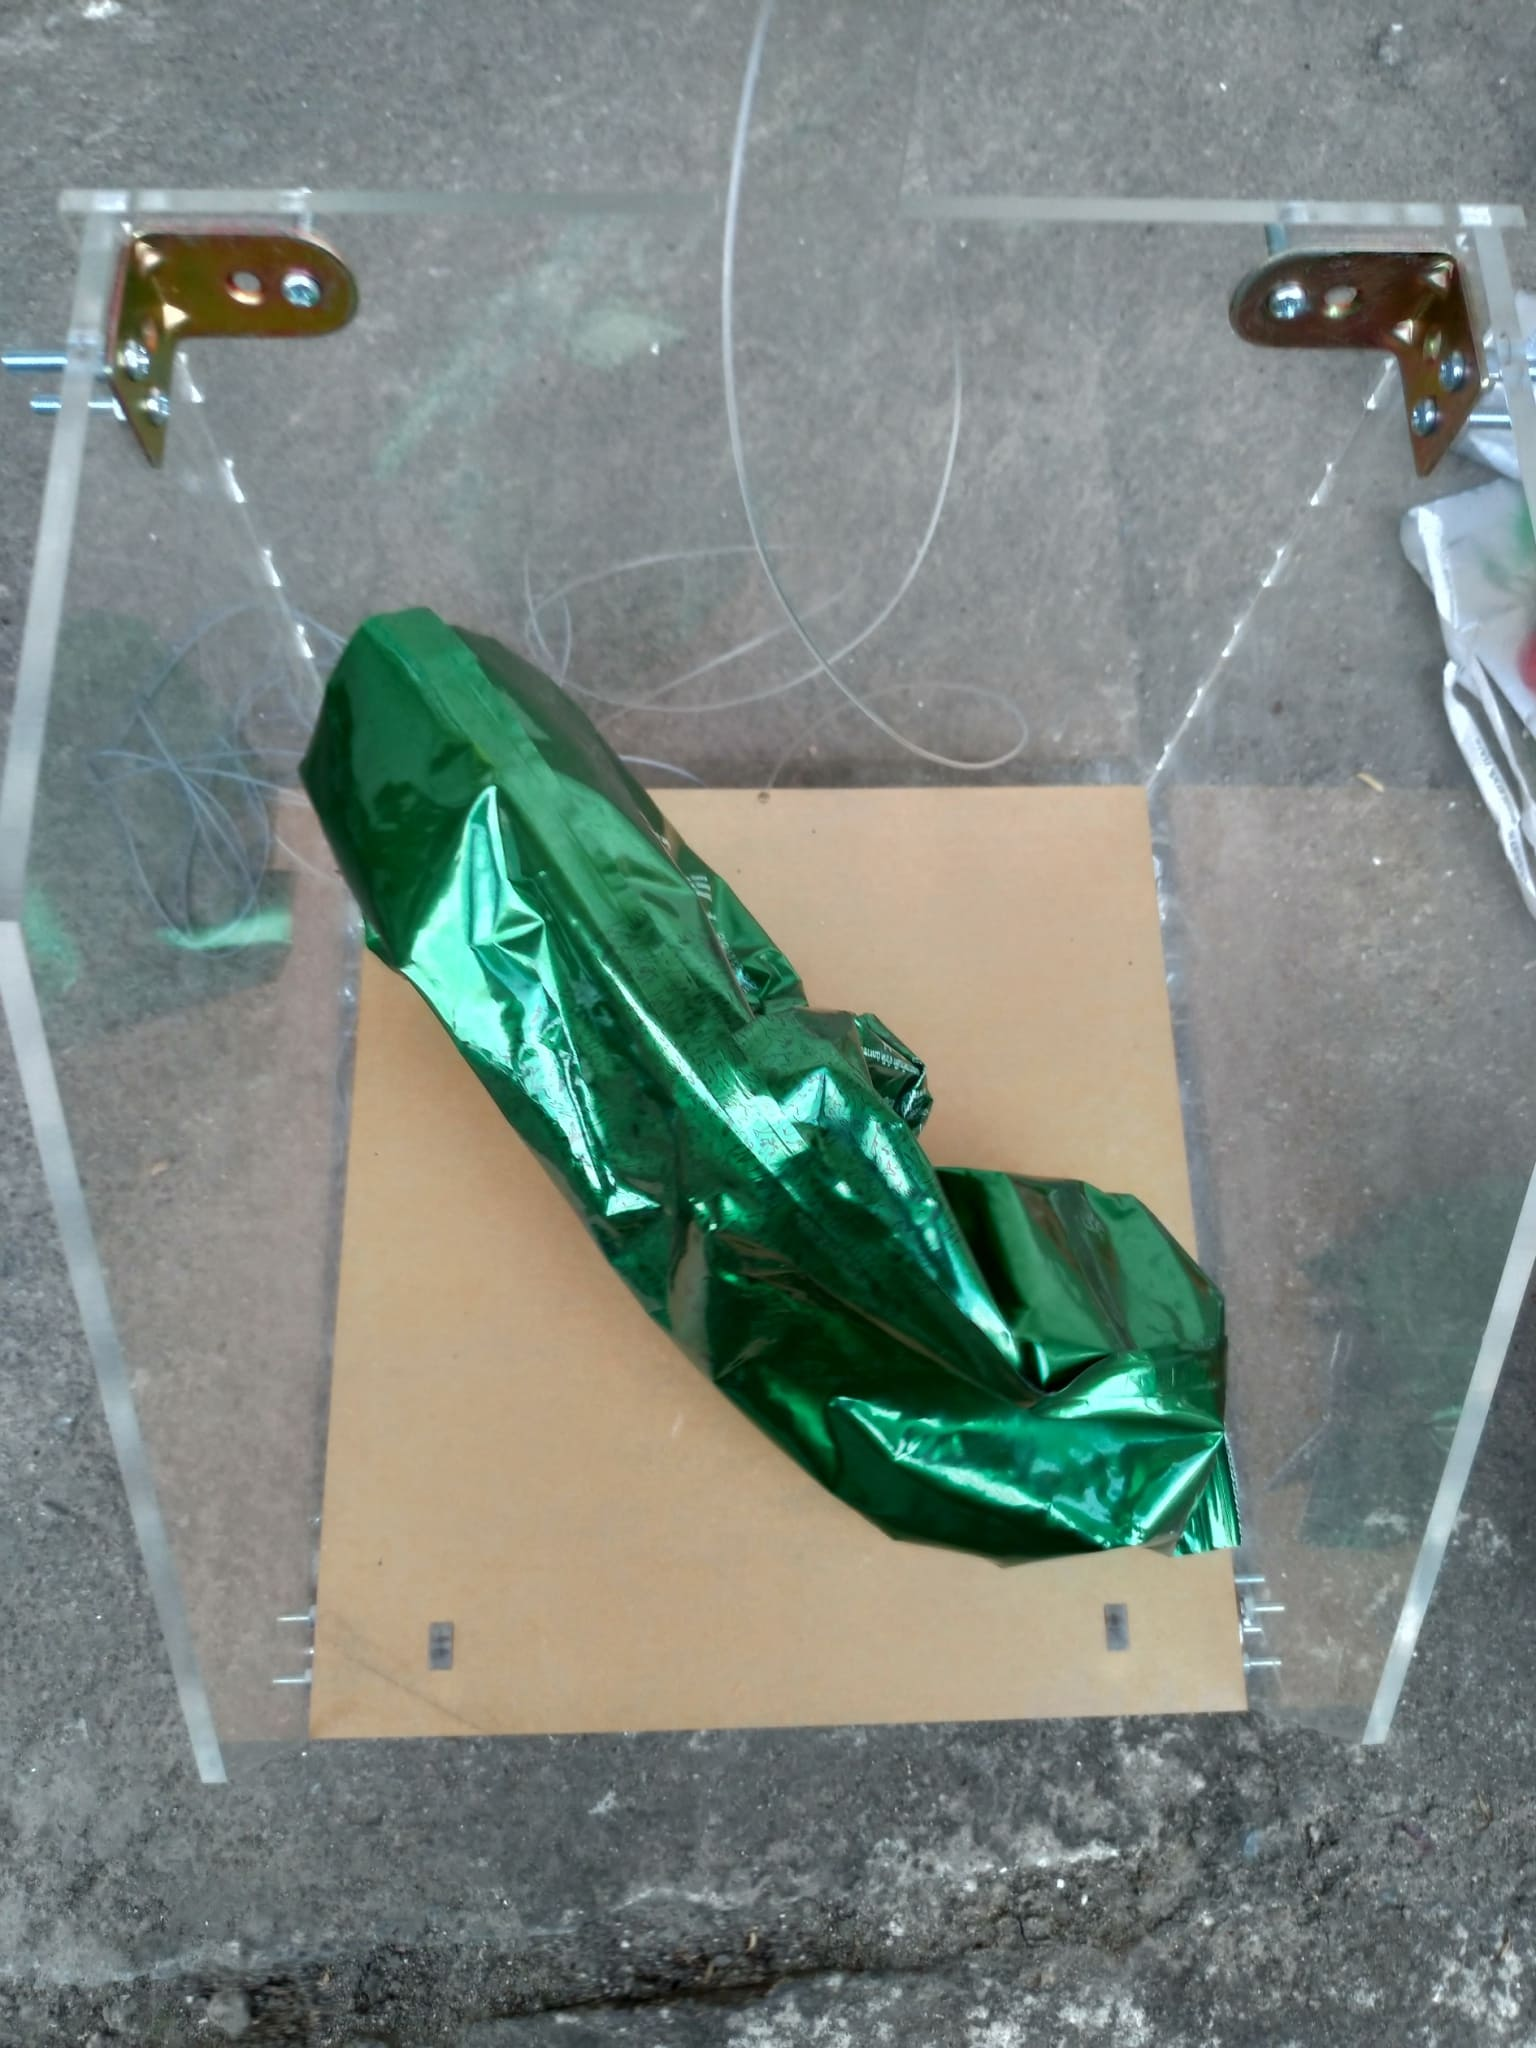Others: (290, 611, 1241, 1558)
